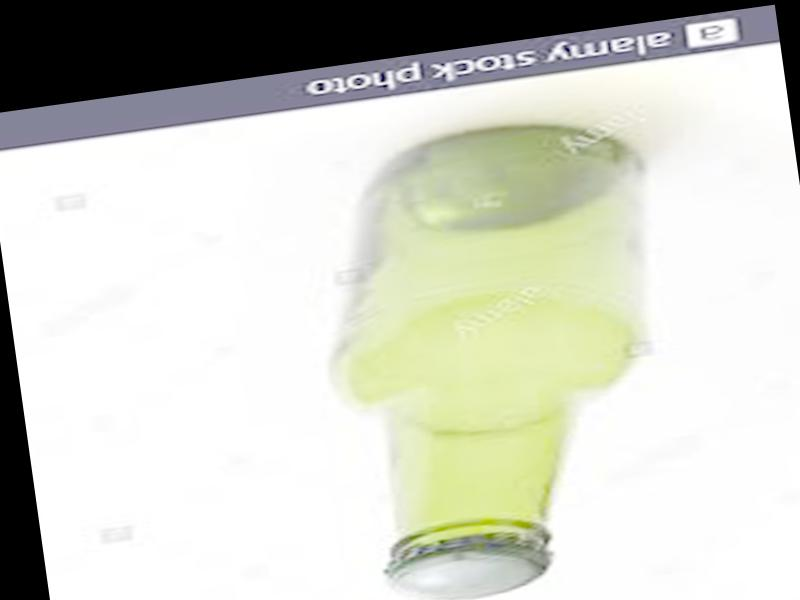Beer: (324, 108, 697, 600)
